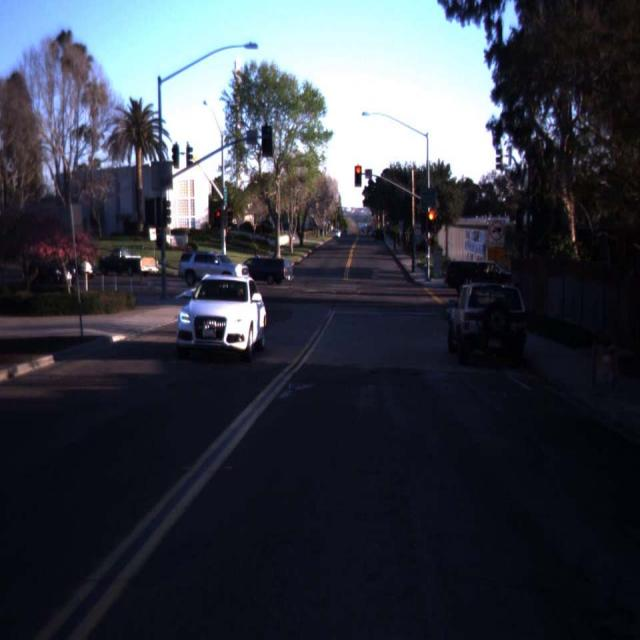kirmizi: (427, 212, 436, 233), (355, 166, 362, 187)
